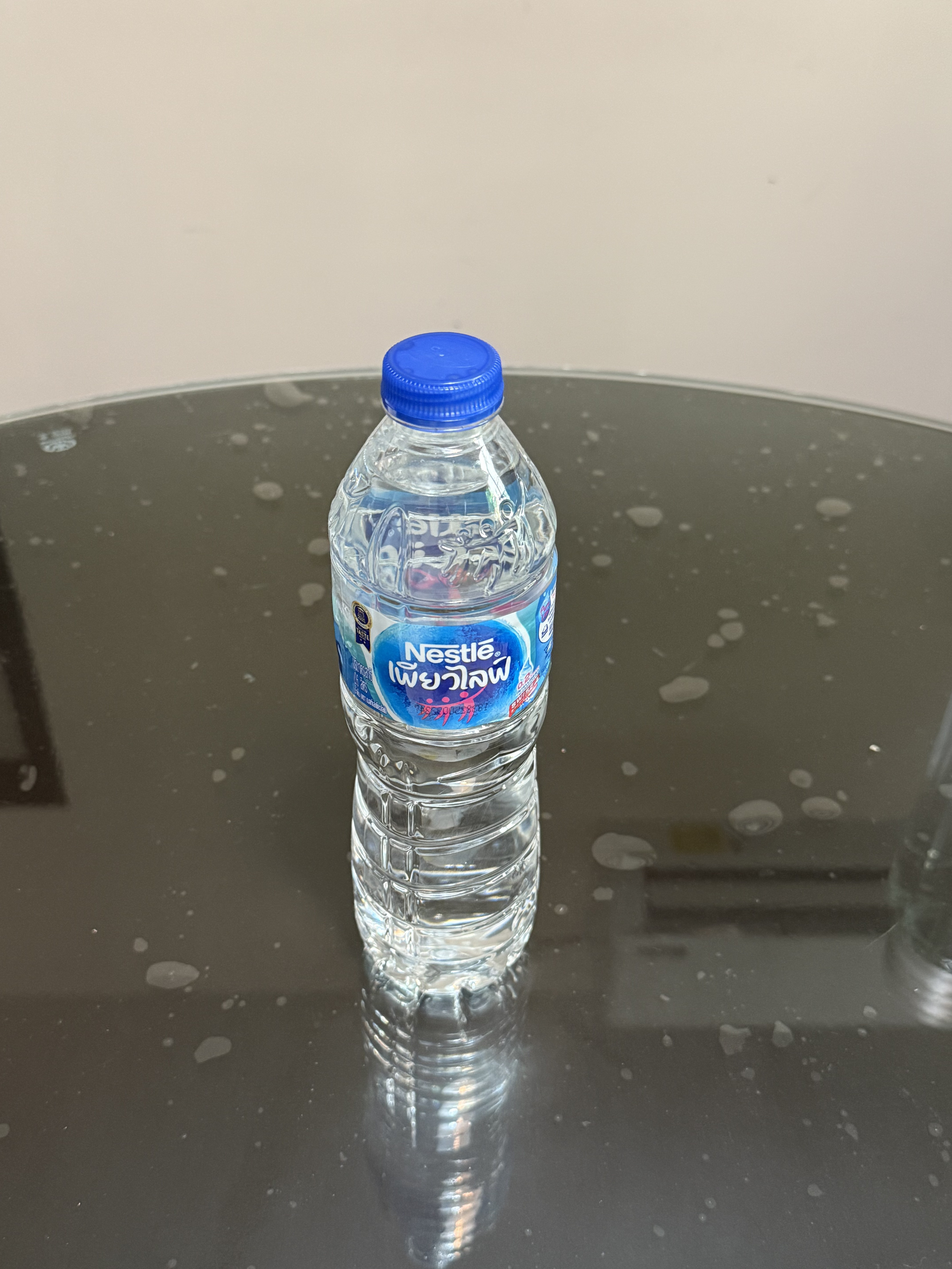closed_cap: (378, 328, 506, 429)
